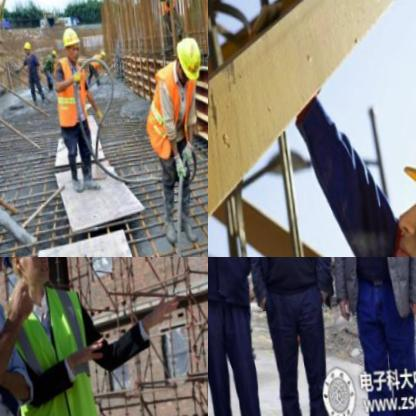helmet: (0, 257, 54, 296), (171, 33, 205, 86), (58, 26, 81, 63), (21, 37, 32, 57)
